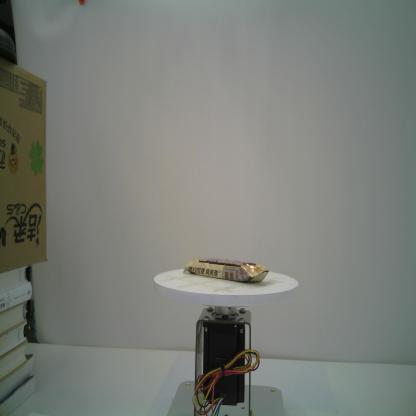Chocolate: (182, 255, 274, 284)
